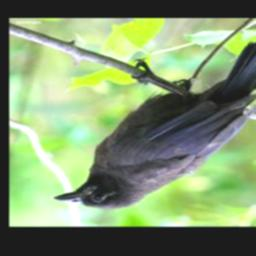Crow: (53, 34, 256, 211)
